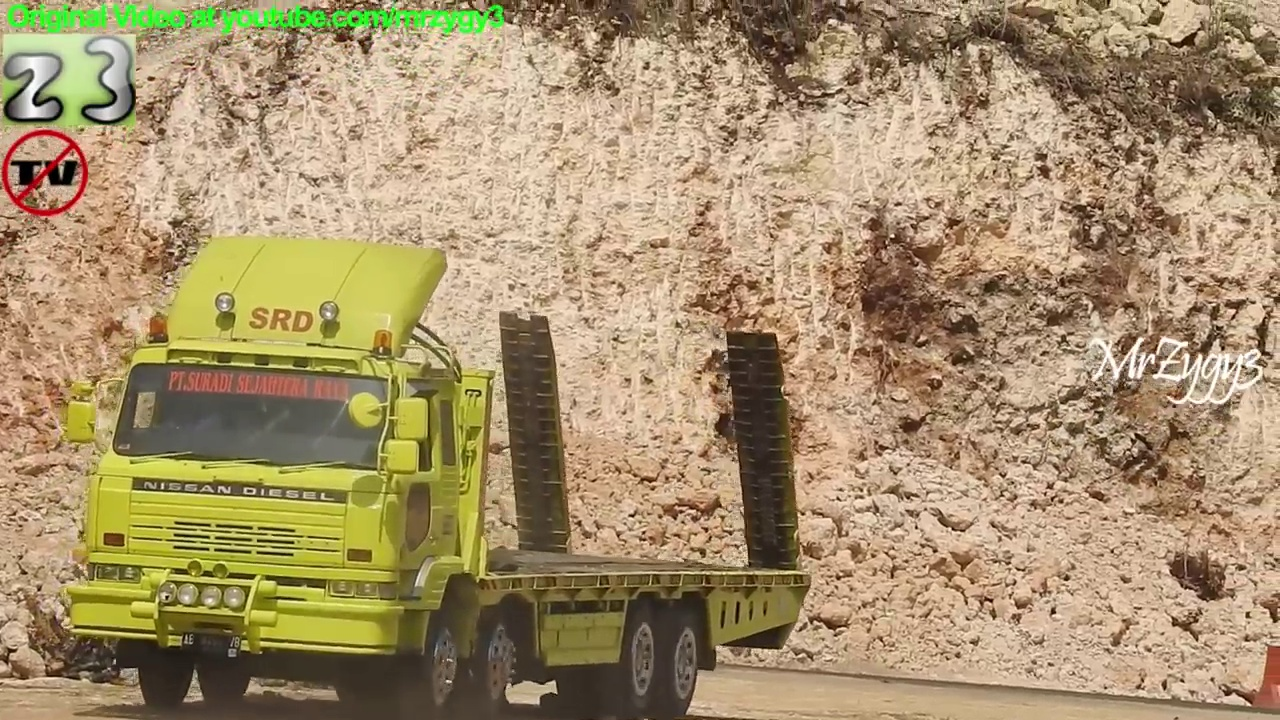truck: (60, 230, 821, 720)
